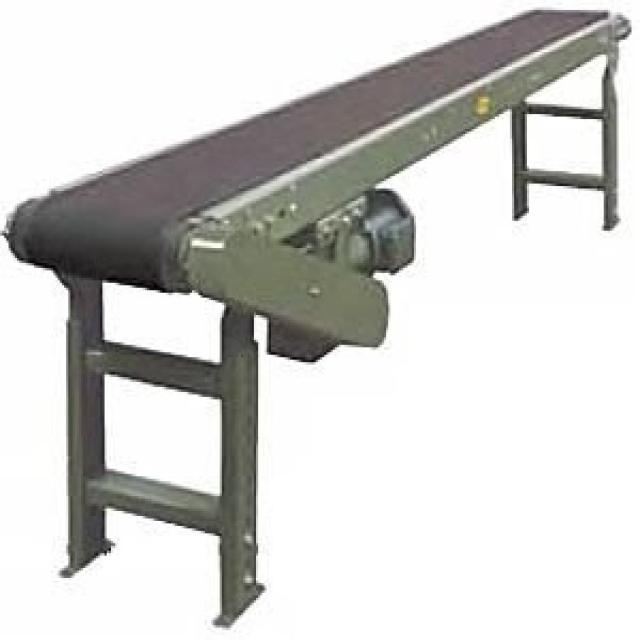conveyor: (0, 0, 638, 595)
